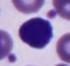D: (18, 18, 54, 48)
